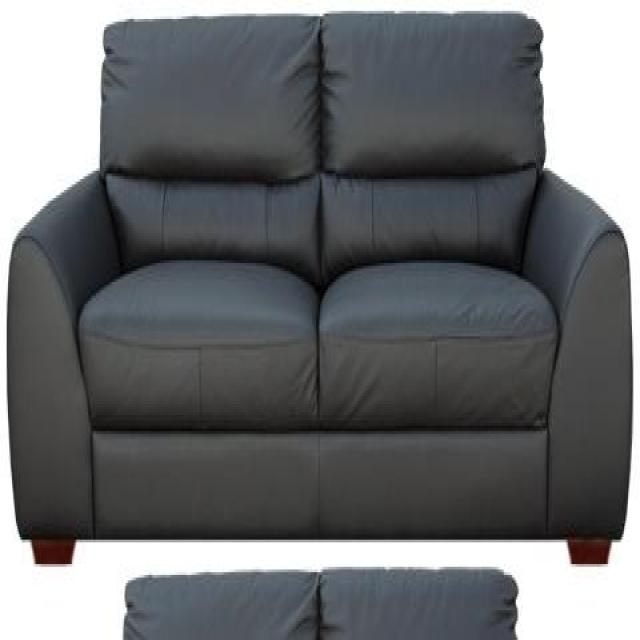sofa: (5, 6, 635, 567)
